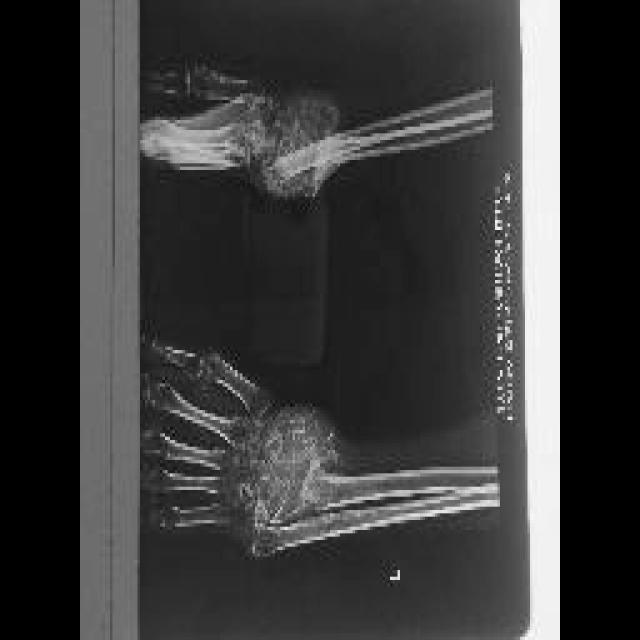bone-cancer: (256, 410, 340, 524), (259, 101, 342, 198)
